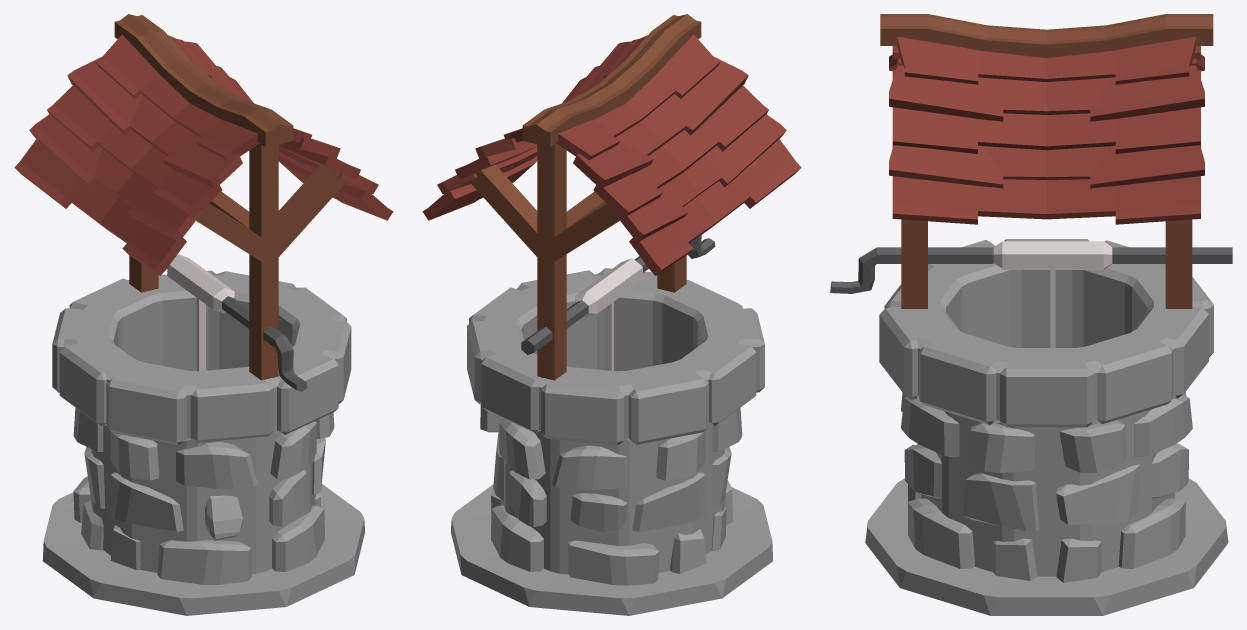
File: Well.gltf
The picture shows the model from 3 angles, left to right: view 1: azimuth 30°, elevation 25°; view 2: azimuth 150°, elevation 25°; view 3: azimuth 270°, elevation 25°; orthographic projection. The views are drawn at different scales.
Parts seen in each view (by area): view 1: Well_Cylinder.002; view 2: Well_Cylinder.002; view 3: Well_Cylinder.002.
Boxes of the visible parts, bbox=[...] form: Well_Cylinder.002: bbox=[14, 14, 393, 615]; Well_Cylinder.002: bbox=[422, 14, 801, 615]; Well_Cylinder.002: bbox=[830, 14, 1232, 615].
Bounding box in the file's own units: 1.28 × 2.15 × 1.49.
